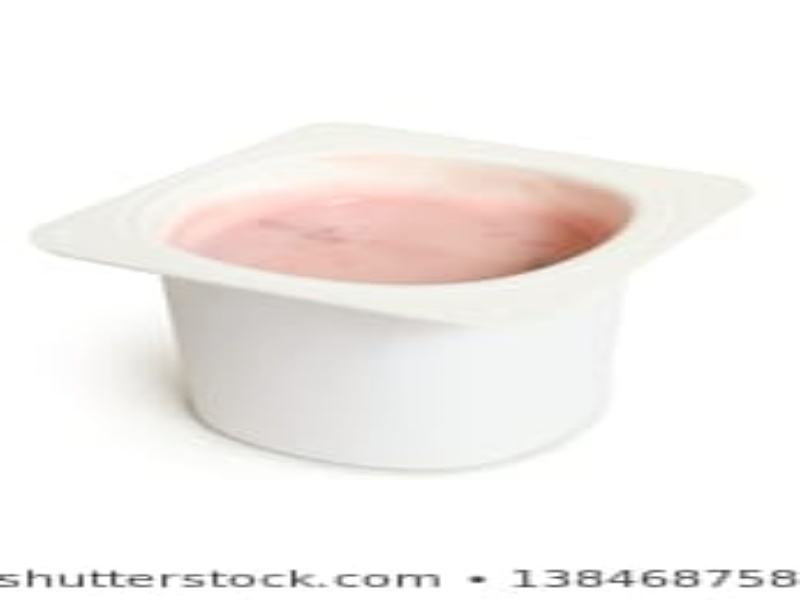yogurt-cup: (14, 110, 768, 475)
